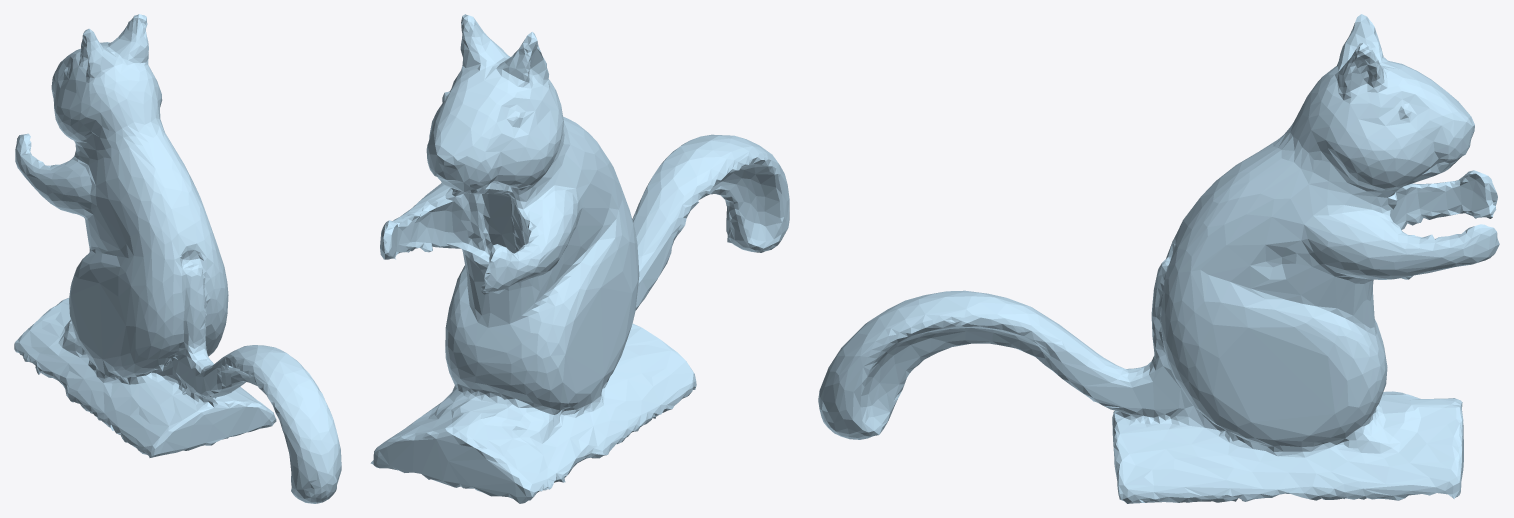
File: Squirrel_Creaform_Test.glb
3 renders of one model, left to right at view 1: azimuth 30°, elevation 25°; view 2: azimuth 150°, elevation 25°; view 3: azimuth 270°, elevation 25°, orthographic. The views are drawn at different scales.
Visible parts, largest first — view 1: Squirrel_Creaform_Test_Holes_Filled; view 2: Squirrel_Creaform_Test_Holes_Filled; view 3: Squirrel_Creaform_Test_Holes_Filled.
Part boxes in pixels (x1,y1,x2,y2): Squirrel_Creaform_Test_Holes_Filled: [14, 14, 341, 503]; Squirrel_Creaform_Test_Holes_Filled: [370, 14, 789, 503]; Squirrel_Creaform_Test_Holes_Filled: [818, 14, 1499, 503].
Bounding box in the file's own units: 62.2 × 158 × 220.
